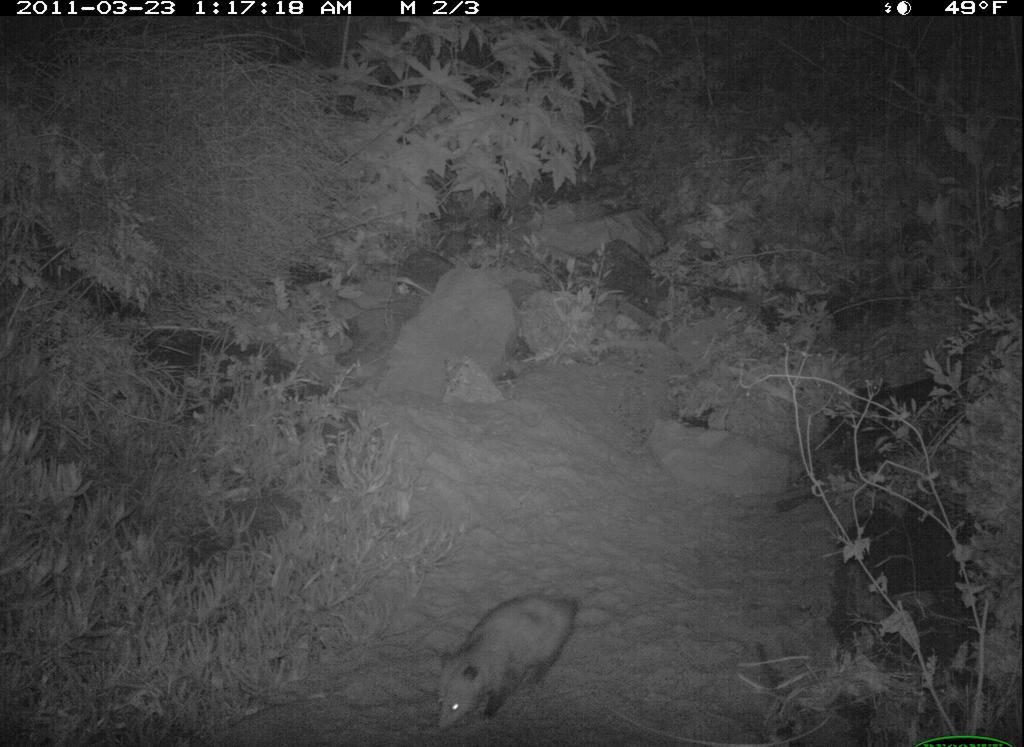opossum: (427, 583, 611, 737)
